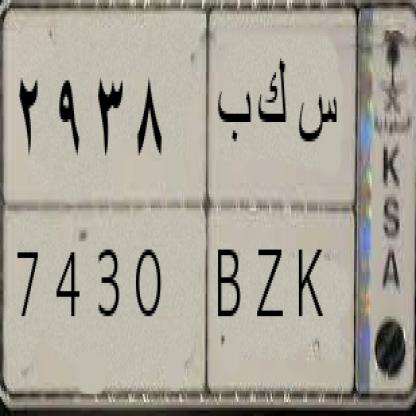english: (4, 190, 365, 390)
